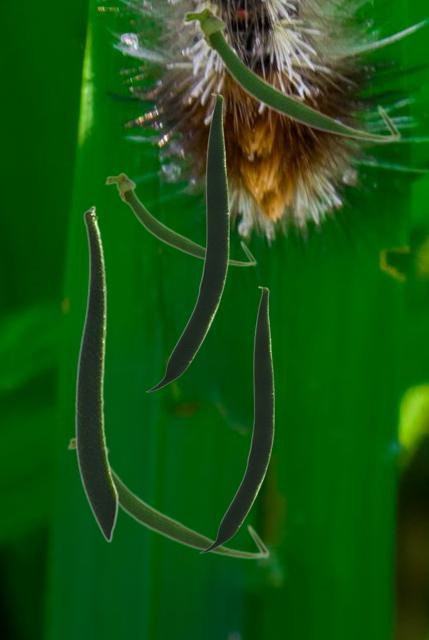french_bean: (180, 4, 401, 142), (66, 437, 269, 559), (145, 93, 228, 391), (199, 286, 273, 552), (74, 205, 118, 542), (104, 172, 256, 266)
